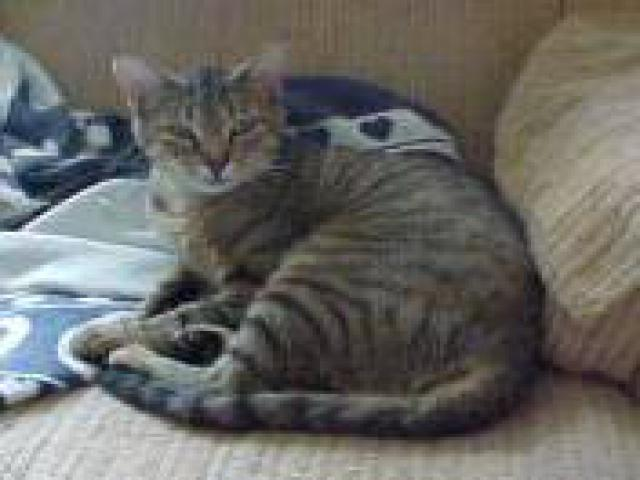cat: (86, 51, 539, 424)
